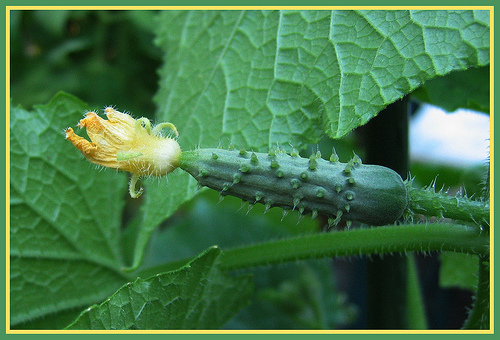cucumber: (174, 143, 412, 227)
